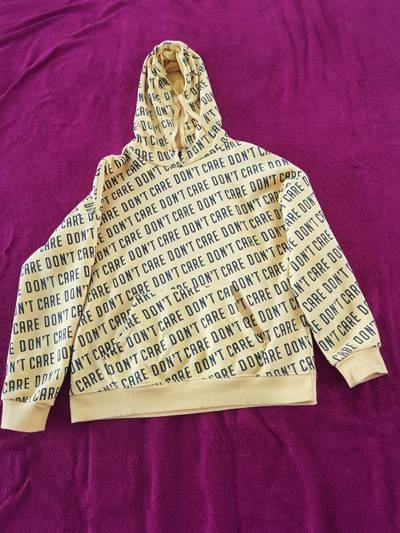Hoodie: (9, 29, 393, 446)
